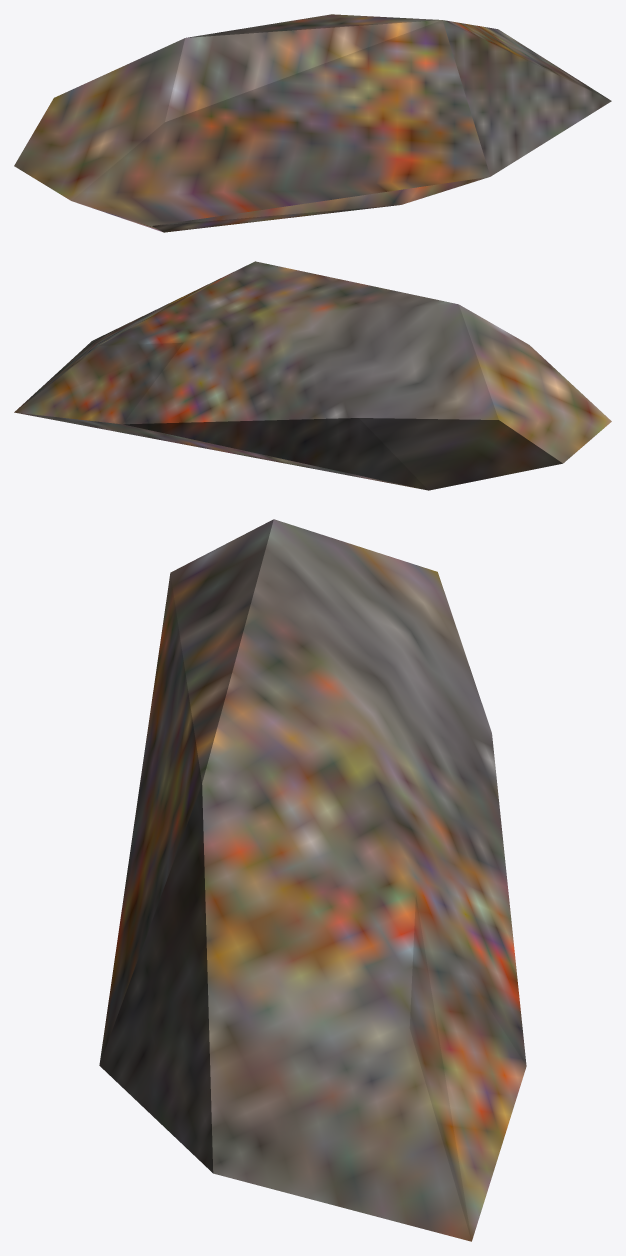
Rendered from JAM_Rock_03.fbx.
3 views of the same model, one above another, from view 1: azimuth 30°, elevation 25°; view 2: azimuth 150°, elevation 25°; view 3: azimuth 270°, elevation 25° (orthographic). The views are drawn at different scales.
Parts seen in each view (by area): view 1: PROPS_Rock_03; view 2: PROPS_Rock_03; view 3: PROPS_Rock_03.
Part boxes in pixels (bbox=[...]): PROPS_Rock_03: bbox=[14, 14, 611, 232]; PROPS_Rock_03: bbox=[14, 261, 611, 490]; PROPS_Rock_03: bbox=[99, 519, 526, 1241].
Size of the model in its own units: 2.12 by 0.6469 by 0.7436.
